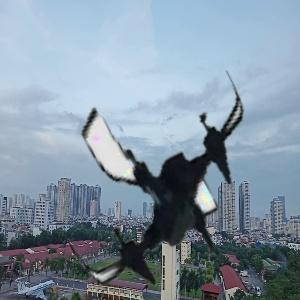drone: (51, 75, 275, 299)
